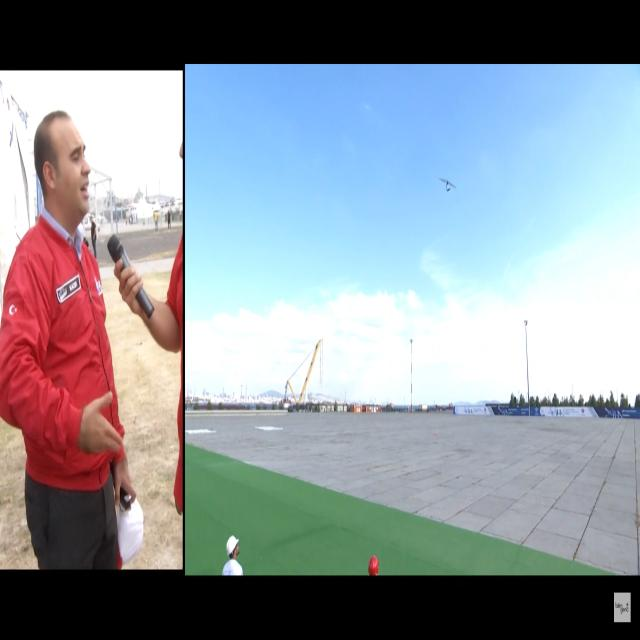iha: (436, 176, 458, 196)
